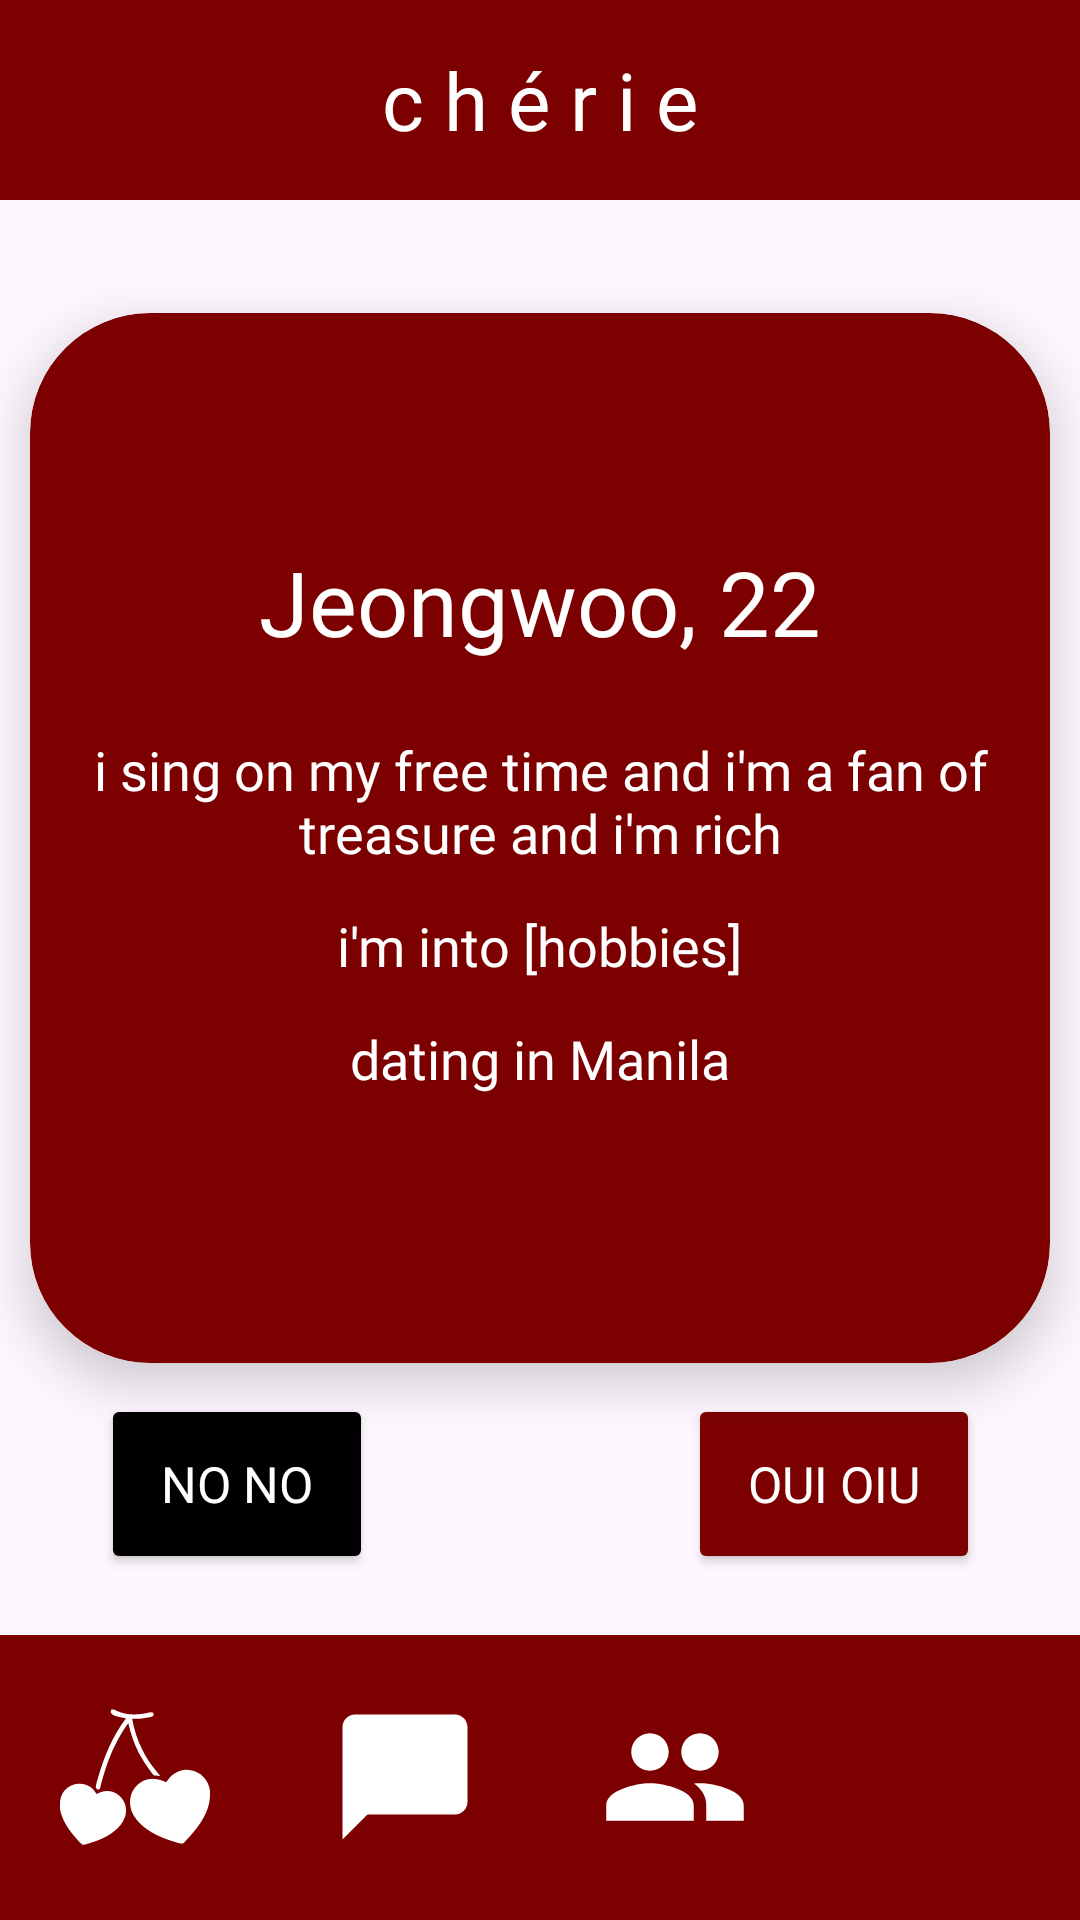

Icons on this 1080w x 1920h Android screen, each with the point to tap as point (x, y):
Chat: point (405, 1777)
